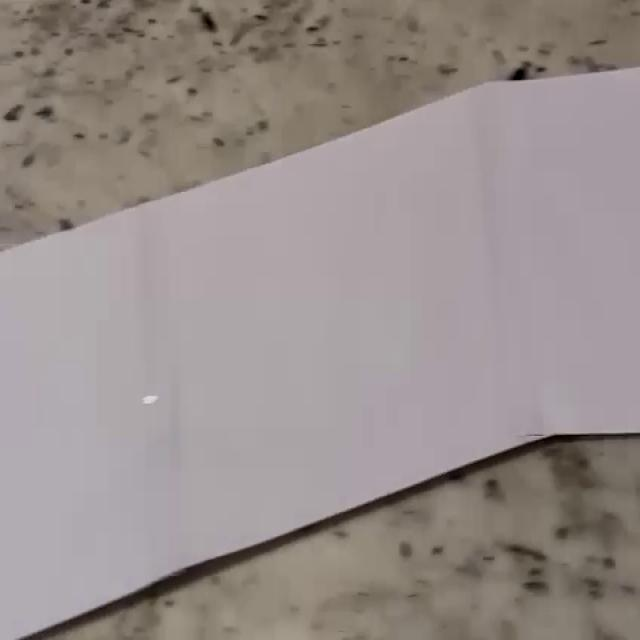road: (0, 68, 640, 640)
